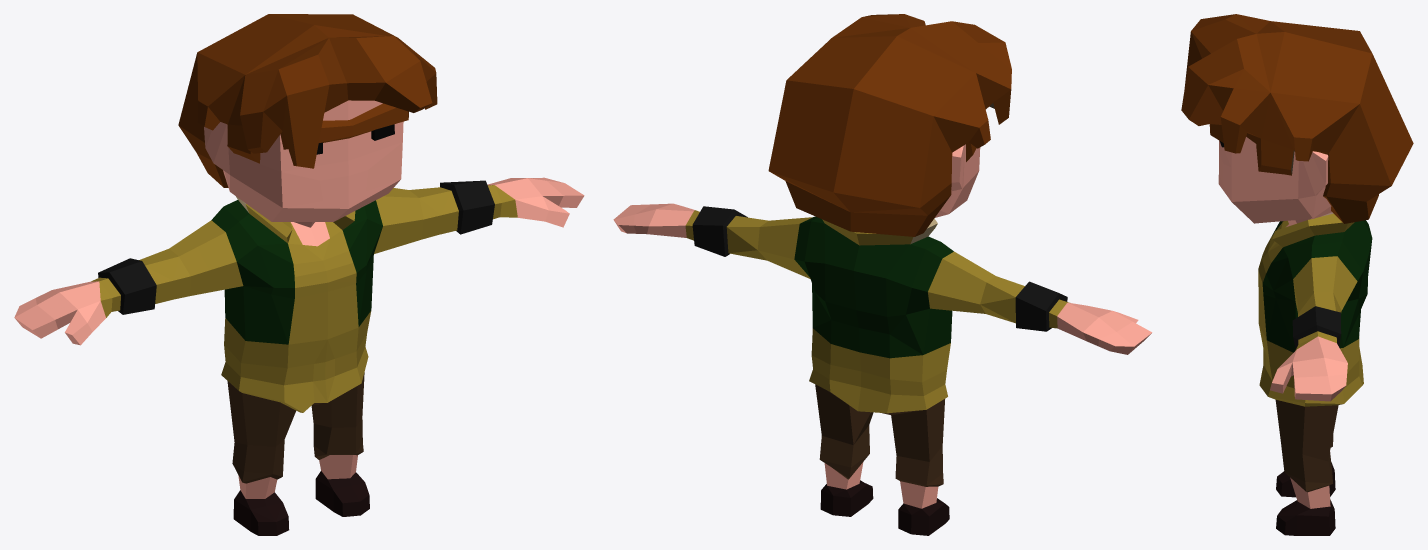
The model's file is Chr_Fantasy_MalePeasant_01.FBX.
3 renders of one model, left to right at view 1: azimuth 30°, elevation 25°; view 2: azimuth 150°, elevation 25°; view 3: azimuth 270°, elevation 25°, orthographic. The views are drawn at different scales.
Visible parts, largest first — view 1: Chr_Fantasy_MalePeasant_01; view 2: Chr_Fantasy_MalePeasant_01; view 3: Chr_Fantasy_MalePeasant_01.
Boxes of the visible parts, <box> form: Chr_Fantasy_MalePeasant_01: <box>14,14,584,535</box>; Chr_Fantasy_MalePeasant_01: <box>613,14,1152,535</box>; Chr_Fantasy_MalePeasant_01: <box>1181,14,1413,535</box>.
Size of the model in its own units: 213 by 184 by 81.02.
8 materials, 1 textured.
